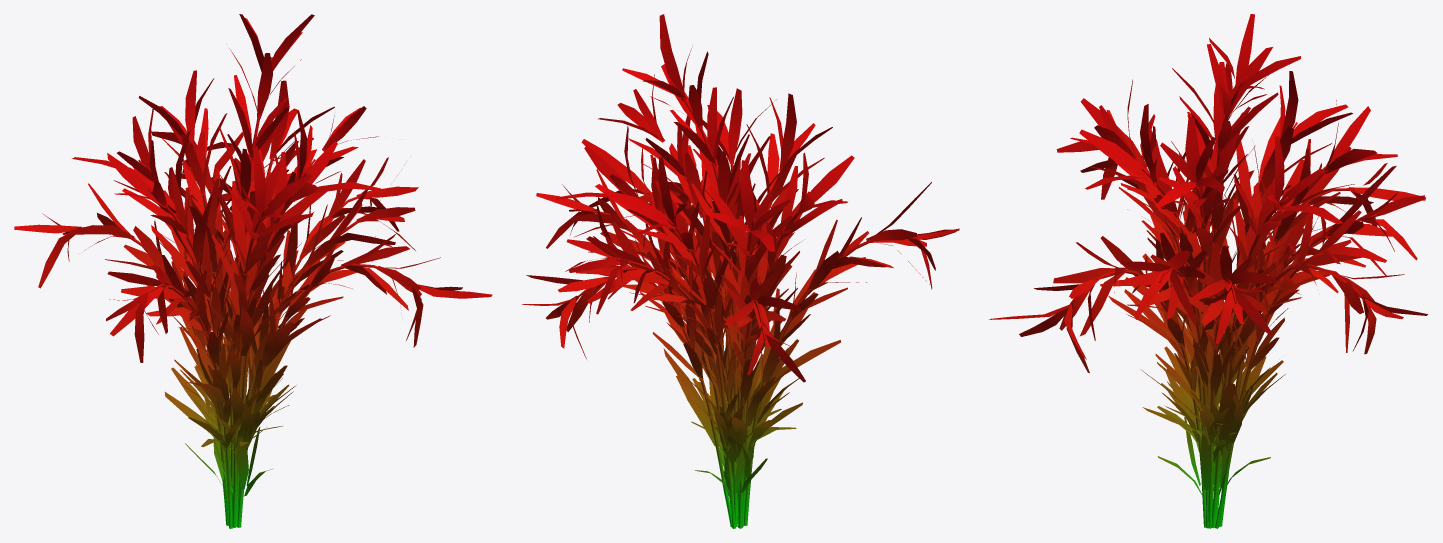
File: Var9_LOD2.fbx
3 renders of one model, left to right at view 1: azimuth 30°, elevation 25°; view 2: azimuth 150°, elevation 25°; view 3: azimuth 270°, elevation 25°, orthographic. The views are drawn at different scales.
Visible parts, largest first — view 1: _g545_Var9_LOD2; view 2: _g545_Var9_LOD2; view 3: _g545_Var9_LOD2.
Boxes of the visible parts, bbox=[...] form: _g545_Var9_LOD2: bbox=[14, 14, 492, 528]; _g545_Var9_LOD2: bbox=[522, 14, 959, 528]; _g545_Var9_LOD2: bbox=[989, 14, 1427, 528].
Size of the model in its own units: 24.66 by 32.79 by 24.75.
